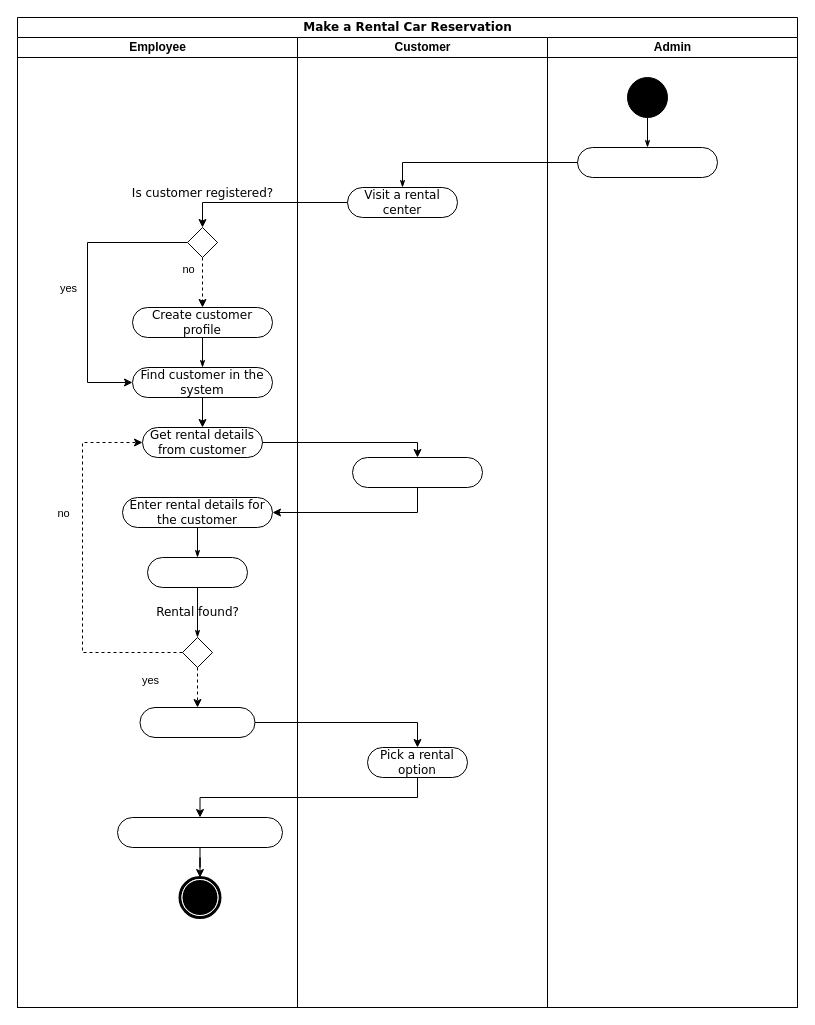
Some shapes in this 815 by 1025 pixel diagram are drawn without their labels. The shapes that lost their labels are listed below. From the top down, each one's centre as x and y in pixels, then its label:
At (x=647, y=162): "Make a rental car available".
At (x=417, y=472): "Determine rental details".
At (x=197, y=572): "Search for a rental".
At (x=197, y=722): "Show results to the customer".
At (x=199, y=832): "Confirm reservation for a rental option".
